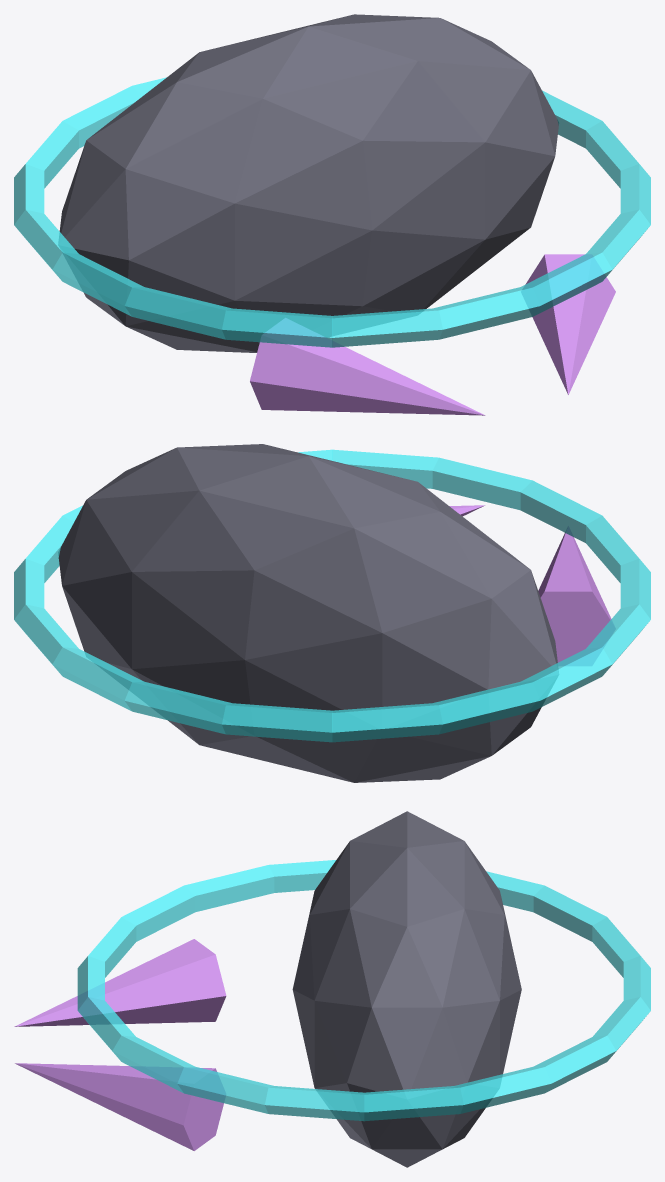
File: 01_creature_skin_element_overlay_1.glb
The picture shows the model from 3 angles, top to bottom: view 1: azimuth 30°, elevation 25°; view 2: azimuth 150°, elevation 25°; view 3: azimuth 270°, elevation 25°; orthographic projection. The views are drawn at different scales.
Parts seen in each view (by area): view 1: skin_patch_body, element_aura, elemental_horn_l, elemental_horn_r; view 2: skin_patch_body, element_aura, elemental_horn_l; view 3: skin_patch_body, element_aura, elemental_horn_l, elemental_horn_r.
Part boxes in pixels (x1,y1,x2,y2): skin_patch_body: (58,14,558,352); element_aura: (14,77,650,347); elemental_horn_l: (250,318,485,415); elemental_horn_r: (521,254,615,394); skin_patch_body: (58,444,558,782); element_aura: (14,449,650,742); elemental_horn_l: (538,526,615,665); skin_patch_body: (292,811,521,1167); element_aura: (77,860,650,1121); elemental_horn_l: (14,939,226,1026); elemental_horn_r: (15,1063,225,1150).
Bounding box in the file's own units: 0.95 × 0.51 × 1.04.
